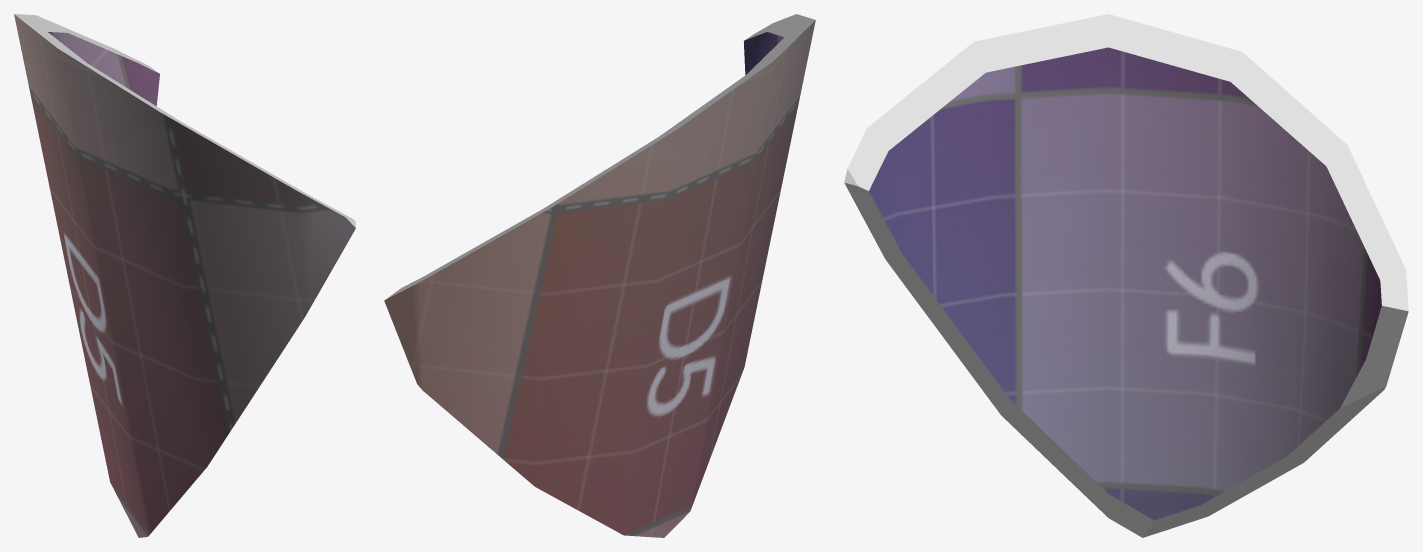
File: MediumVase_SHAT_cell_009.fbx
3 renders of one model, left to right at view 1: azimuth 30°, elevation 25°; view 2: azimuth 150°, elevation 25°; view 3: azimuth 270°, elevation 25°, orthographic. The views are drawn at different scales.
Parts seen in each view (by area): view 1: MediumVase_SHAT_cell_009; view 2: MediumVase_SHAT_cell_009; view 3: MediumVase_SHAT_cell_009.
Part boxes in pixels (<box>): MediumVase_SHAT_cell_009: <box>14,14,355,537</box>; MediumVase_SHAT_cell_009: <box>384,14,815,537</box>; MediumVase_SHAT_cell_009: <box>844,14,1408,537</box>.
Size of the model in its own units: 0.3559 by 0.6975 by 0.7441.
2 materials, 1 textured.
